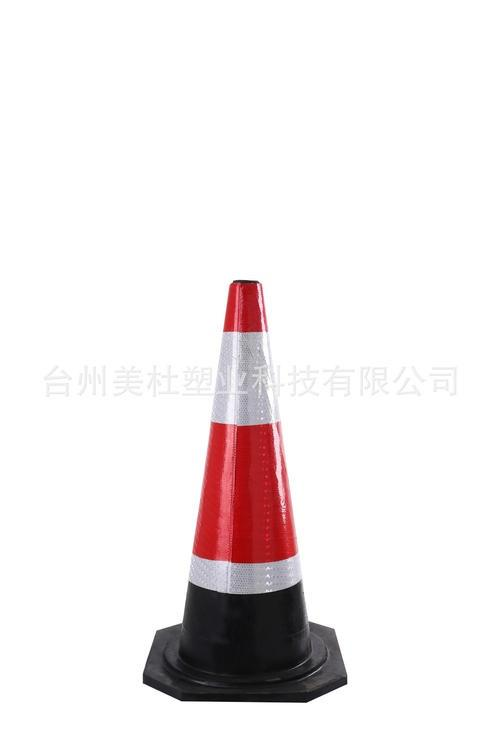cone_barrel: (161, 296, 330, 691)
